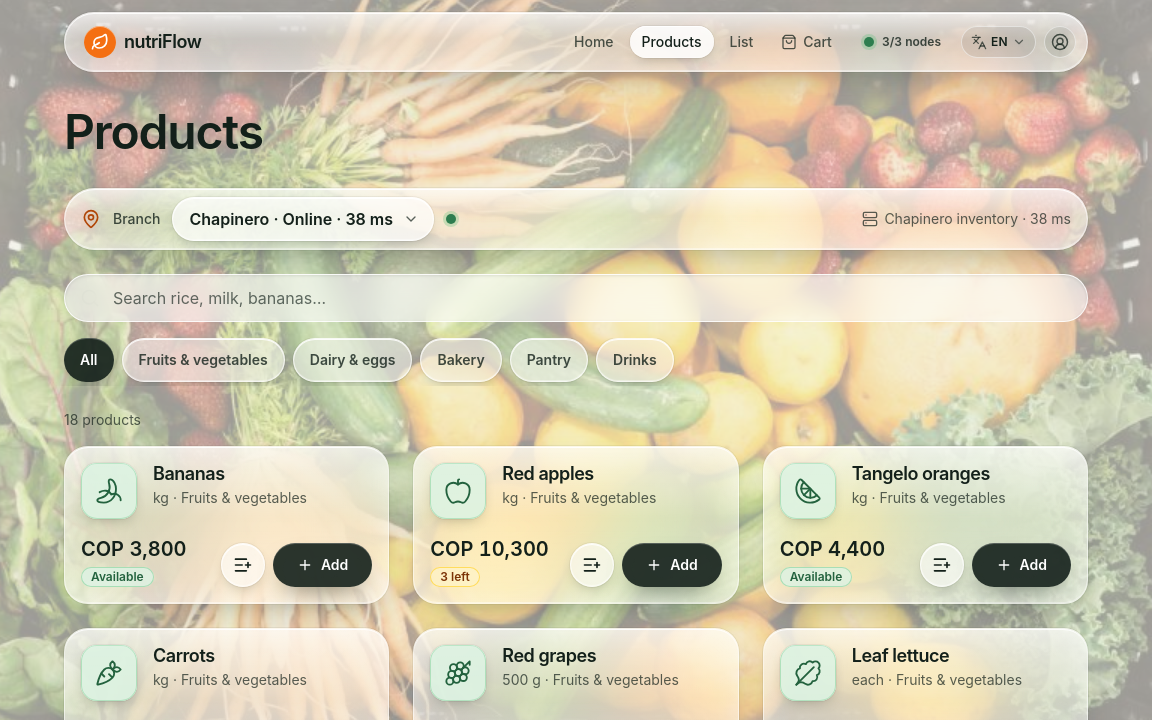
Test case: Browsing › searches ignoring accents and filters by category
This screenshot has width=1152, height=720.
Expected: the text "18 products" is shown, [64, 411, 141, 428]
In the search field named "Search products": (576, 298) [64, 274, 1088, 322], type "cafe"
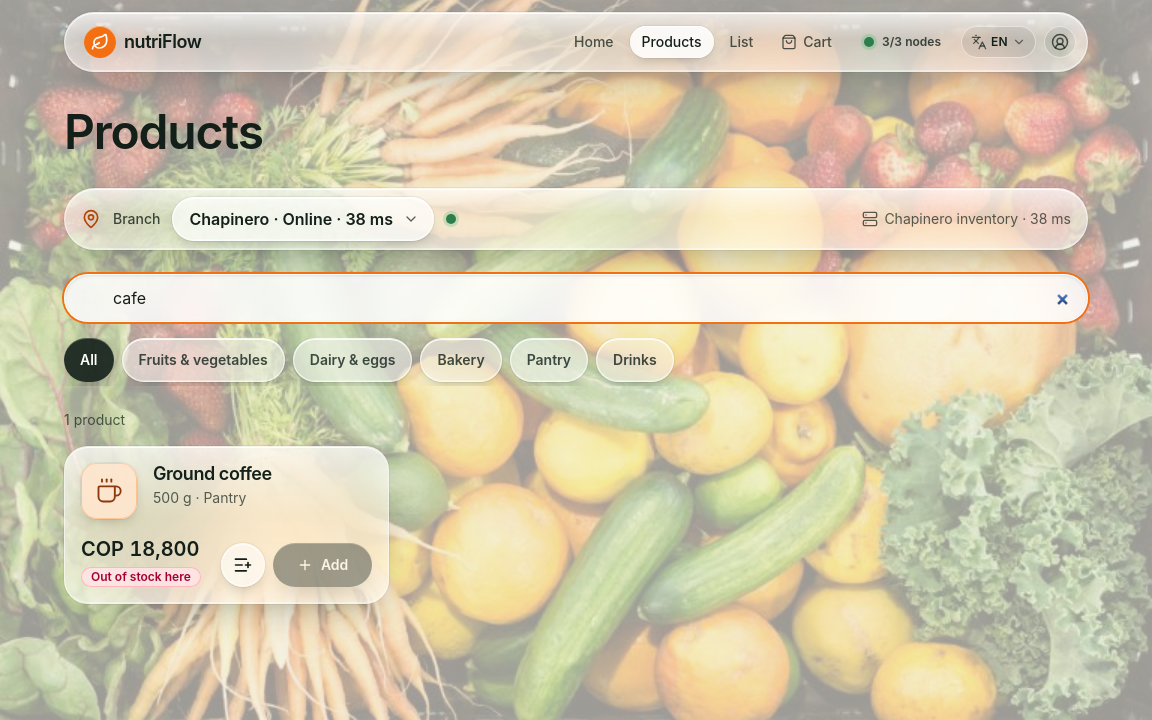
Expected: the link "Ground coffee" is shown, [153, 463, 272, 484]
Expected: the text "1 product" is shown, [64, 411, 125, 428]
The Spanish name works too while the interface is in English.
Replace the text in the search field named "Search products" with "LECHE": (576, 298) [64, 274, 1088, 322]
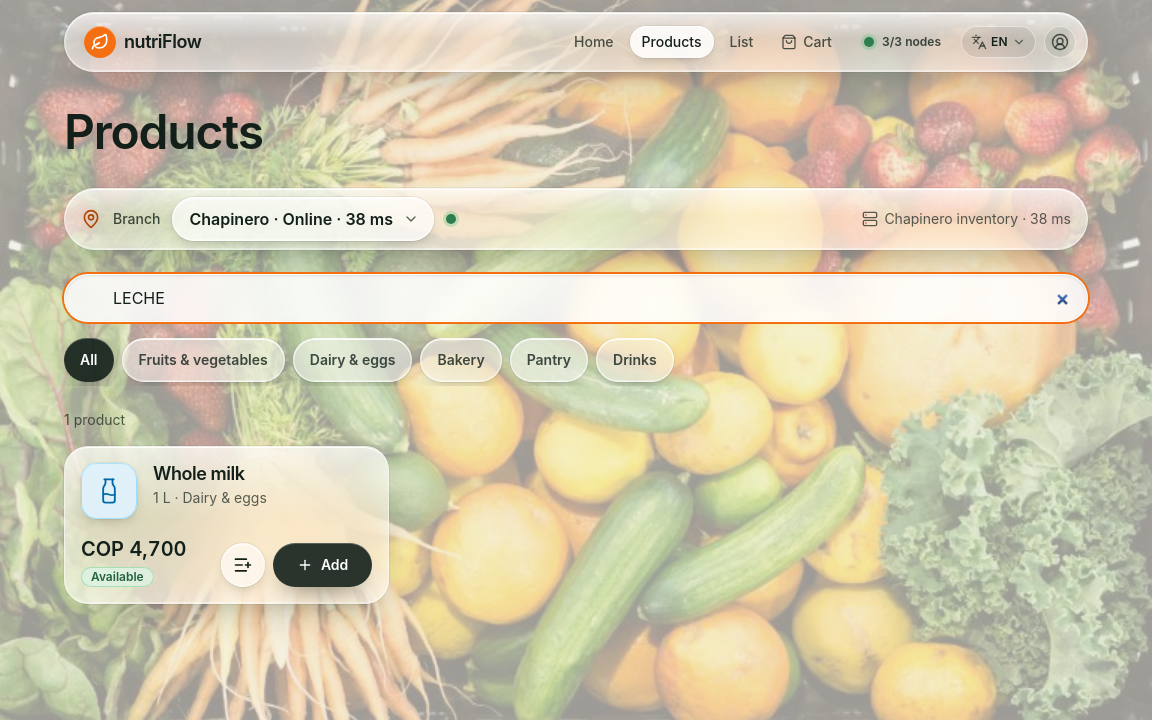
Expected: the text "1 product" is shown, [64, 411, 125, 428]
Expected: the link "Whole milk" is shown, [153, 463, 245, 484]
Replace the text in the search field named "Search products" with "pizza": (576, 298) [64, 274, 1088, 322]
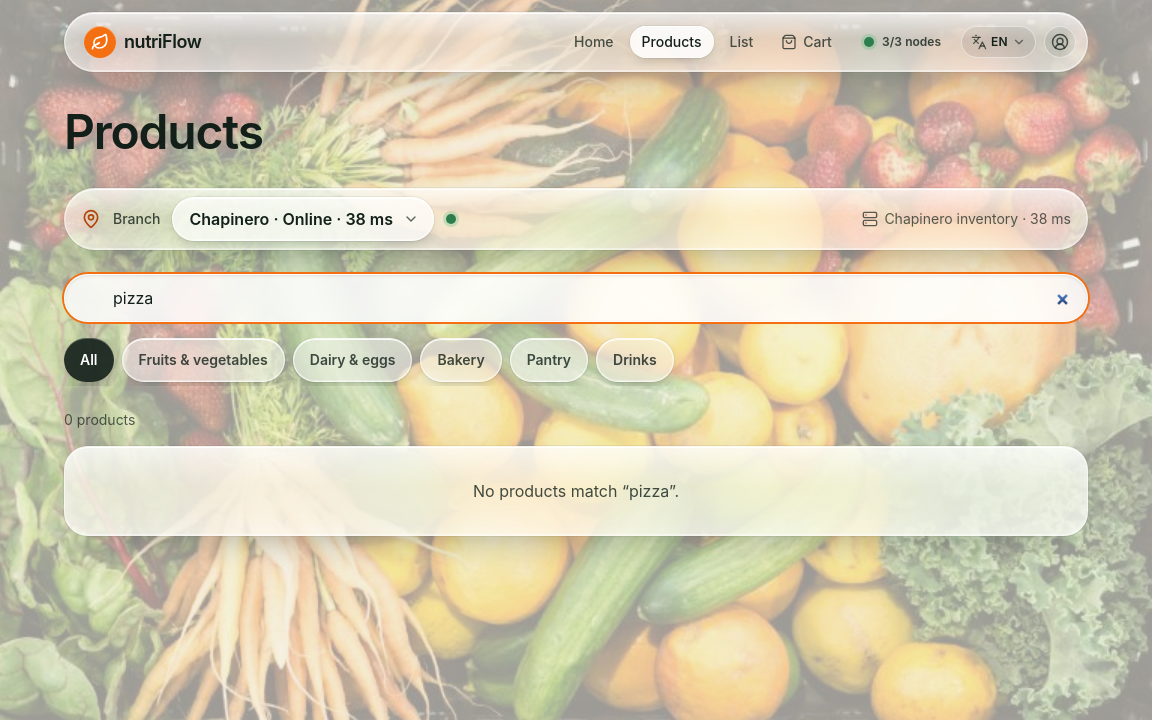
Expected: the text "No products match “pizza”." is shown, [64, 446, 1088, 536]
Clear the search field named "Search products": (576, 298) [64, 274, 1088, 322]
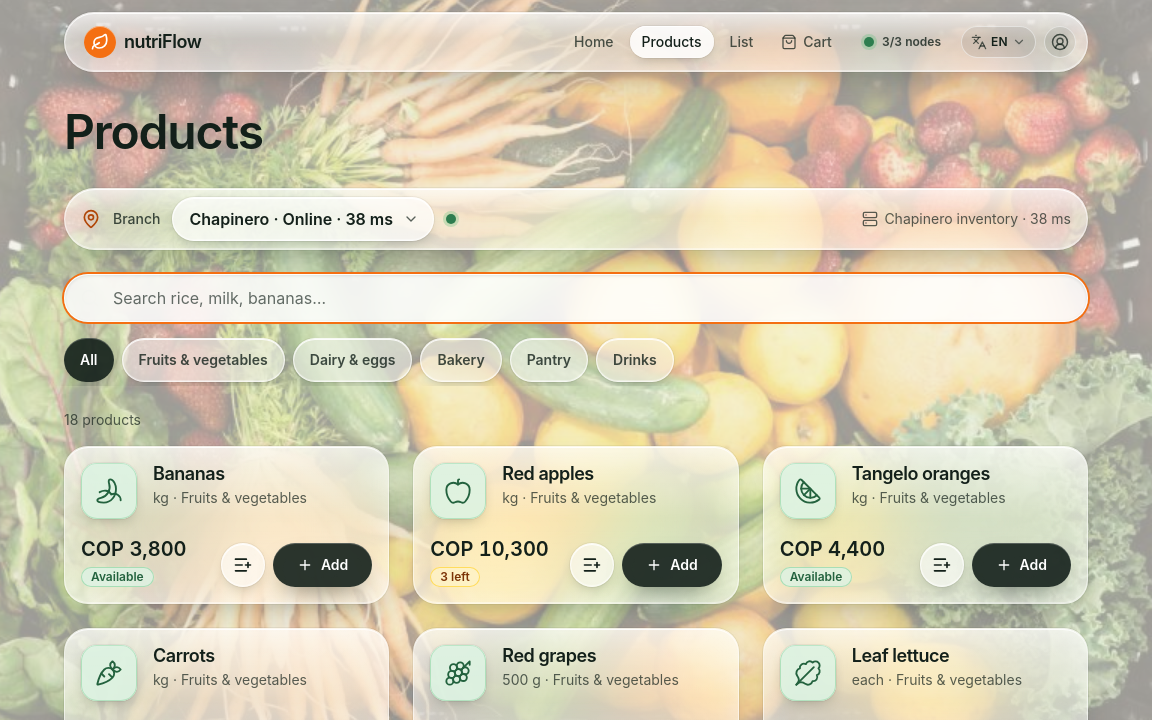
Click the button "Dairy & eggs": (353, 360) [293, 338, 412, 382]
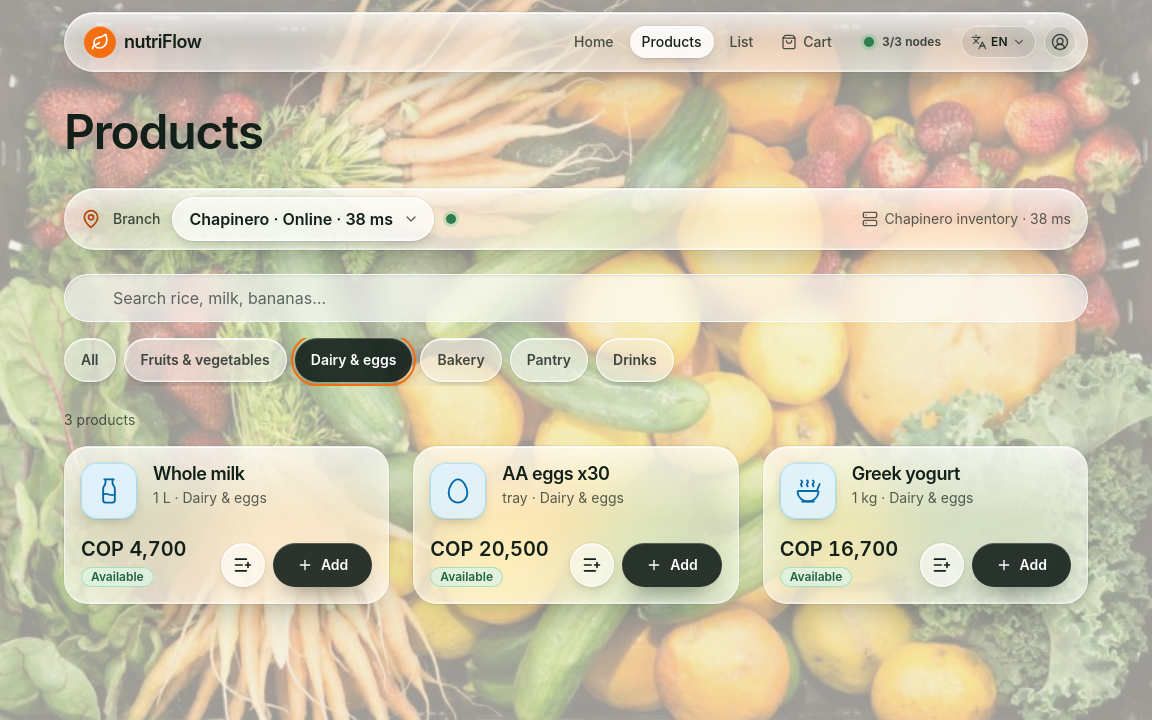
Expected: the text "3 products" is shown, [64, 411, 135, 428]
